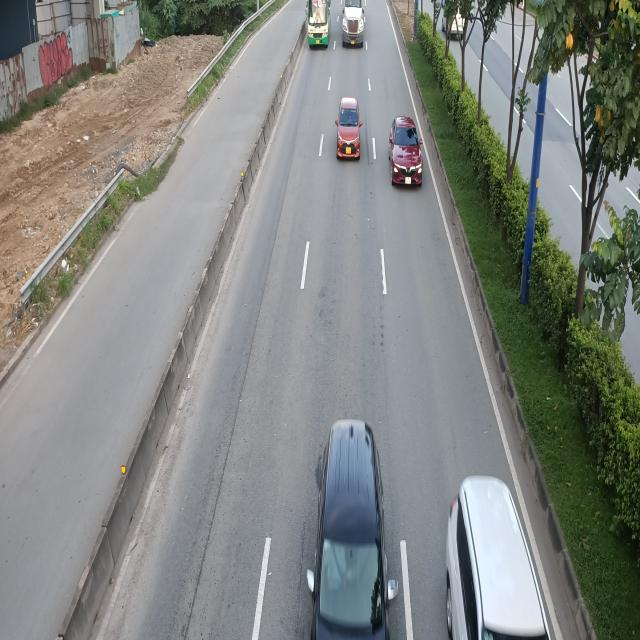car: (312, 415, 396, 636), (390, 114, 426, 185), (336, 98, 363, 160)
coach: (304, 0, 330, 49)
container: (341, 0, 367, 47)
